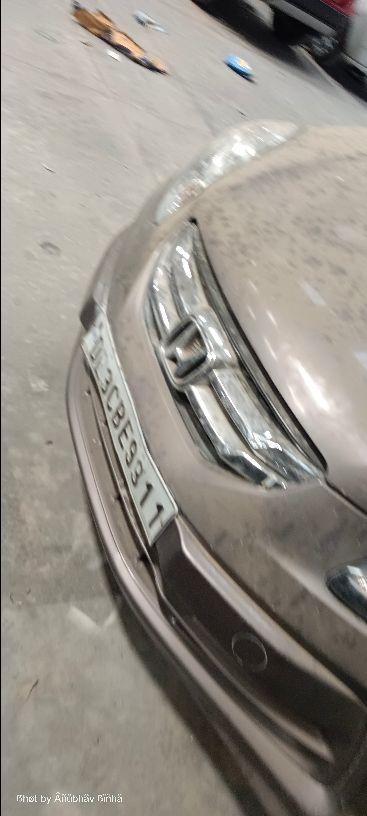license_plate: (78, 309, 179, 548), (223, 53, 253, 76)
